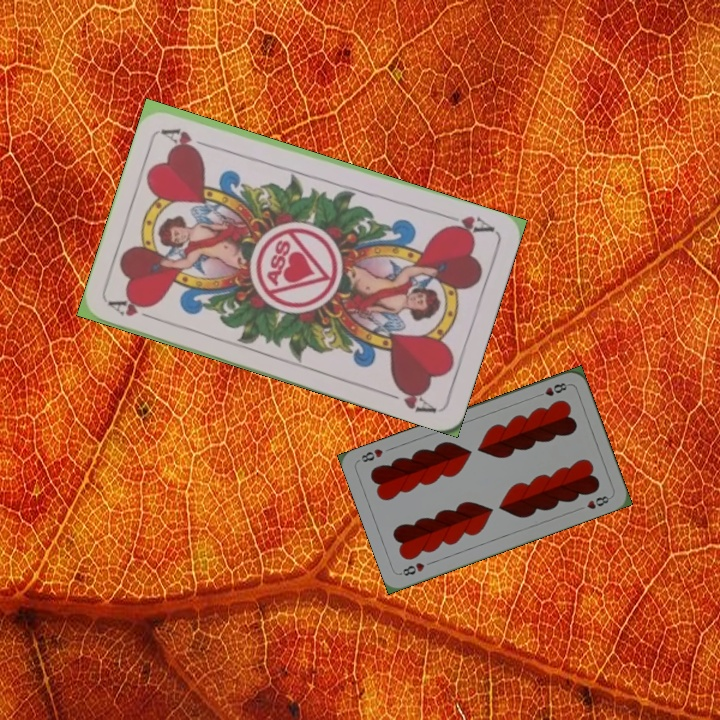H8: (532, 379, 571, 400), (396, 558, 427, 579)
HA: (439, 209, 497, 239), (106, 295, 163, 325)
